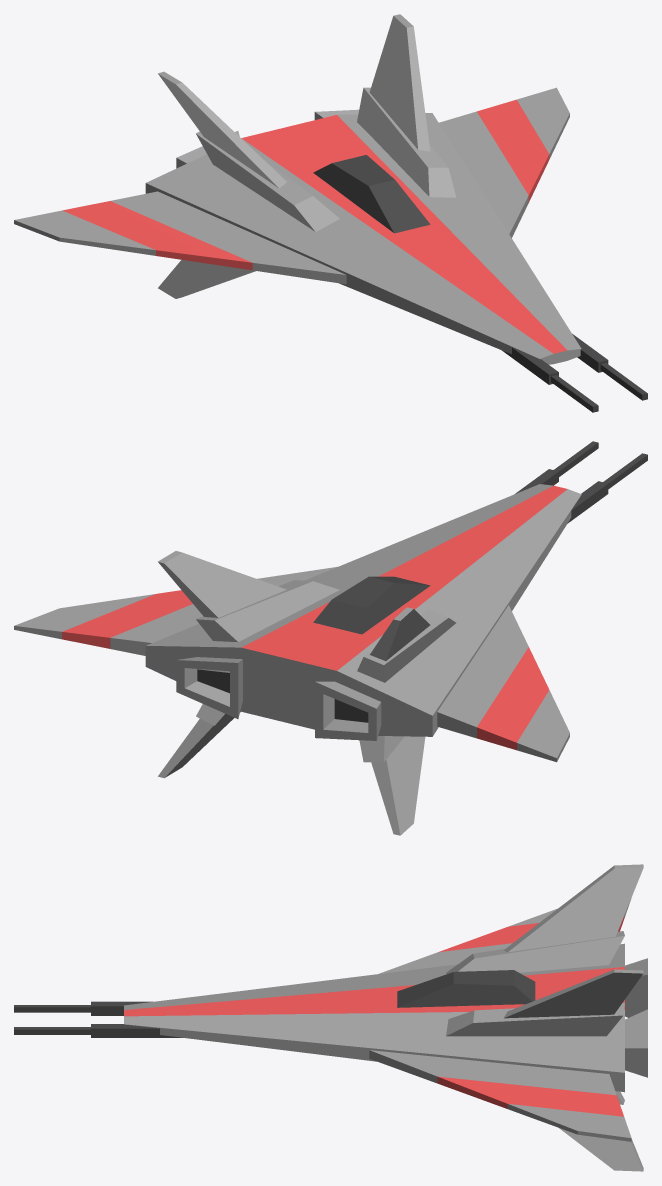
File: Spaceship.fbx
The picture shows the model from 3 angles, top to bottom: view 1: azimuth 30°, elevation 25°; view 2: azimuth 150°, elevation 25°; view 3: azimuth 270°, elevation 25°; orthographic projection. The views are drawn at different scales.
Parts seen in each view (by area): view 1: MEsh; view 2: MEsh; view 3: MEsh.
Part boxes in pixels (box(x1,y1,x2,y2)): MEsh: box(14, 14, 647, 412); MEsh: box(14, 441, 647, 835); MEsh: box(14, 864, 647, 1171).
Bounding box in the file's own units: 17273 × 6530 × 18952.
